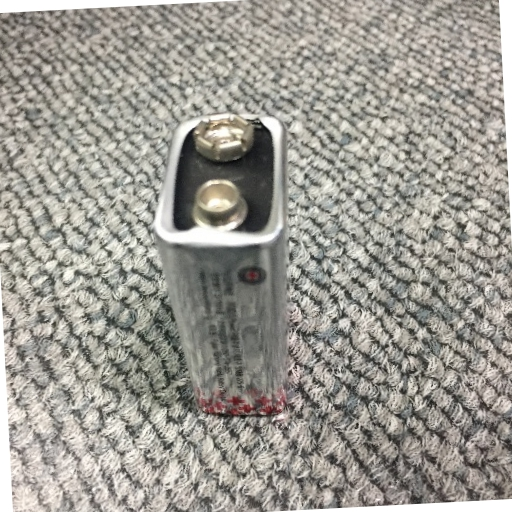Battery_3: (137, 103, 312, 429)
